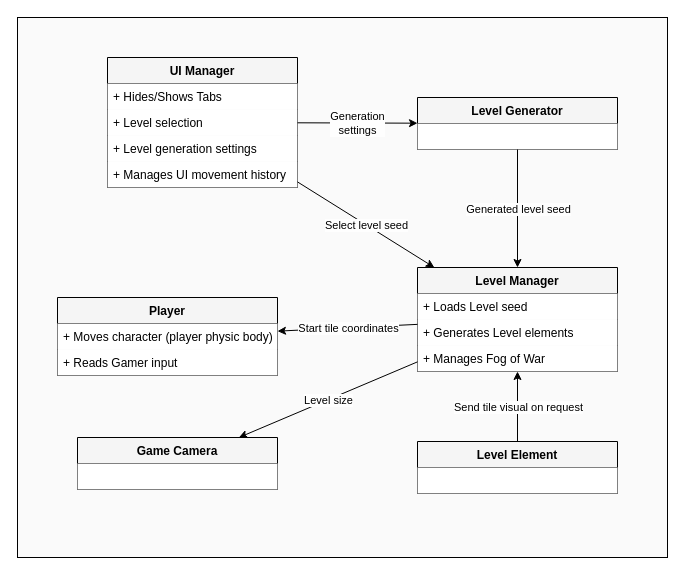
Some shapes in this 685 by 575 pixel diagram are drawn without their labels. The centre of each missing label's shape, as x and y in pixels:
+ Generates levels seed: point (517, 136)
+ Store level tiles visuals: point (517, 480)
+ Zoom to mantain all level visible: point (177, 476)
